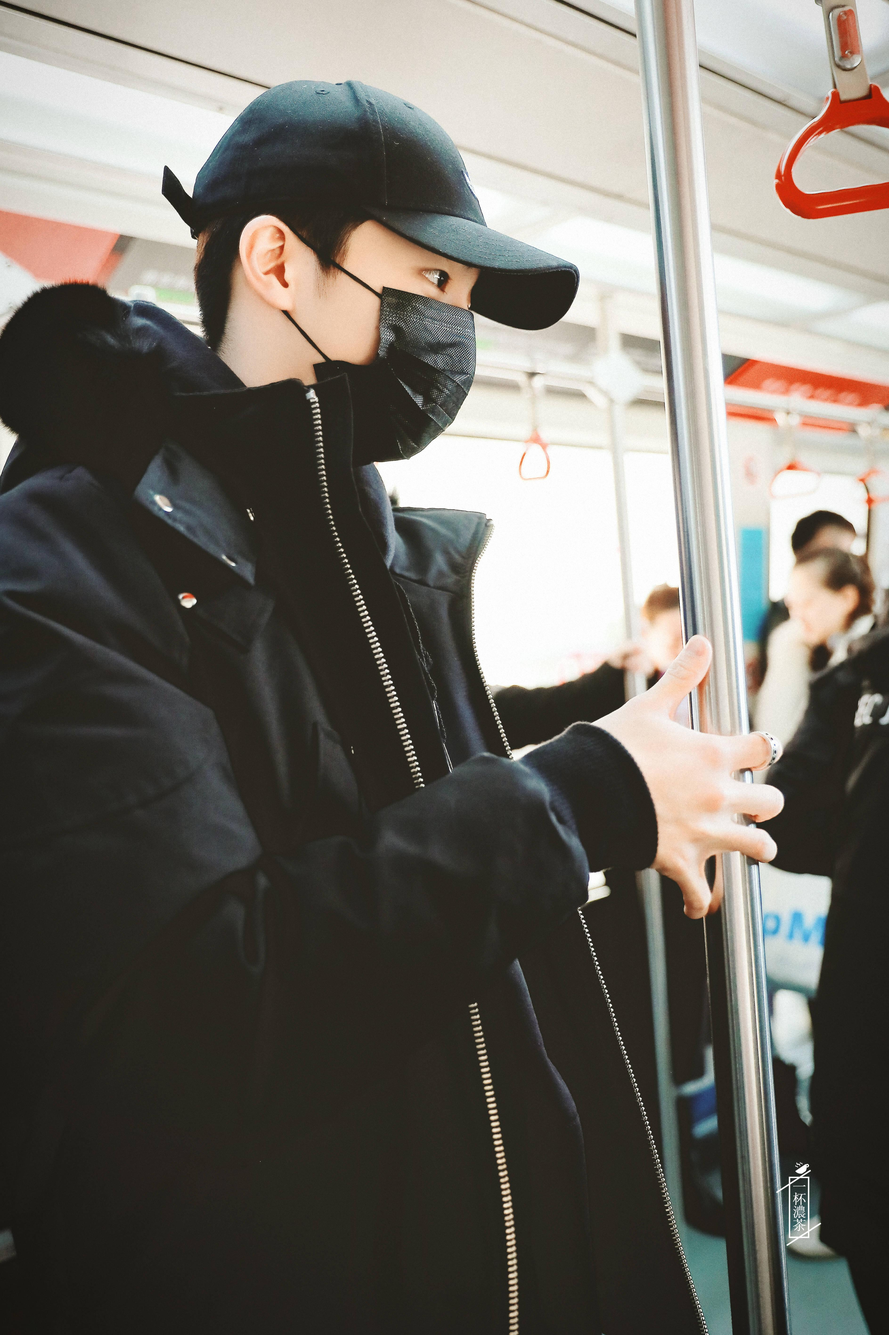NONE: (786, 584, 837, 646)
OK: (311, 232, 480, 466)
